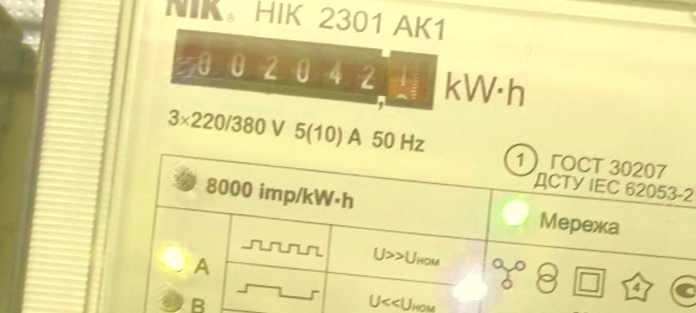0: (292, 55, 312, 87), (193, 48, 213, 79), (227, 50, 246, 82)
1: (394, 59, 410, 91)
2: (357, 62, 377, 93), (260, 54, 280, 84)
4: (324, 56, 345, 90)
screen: (164, 25, 443, 121)
